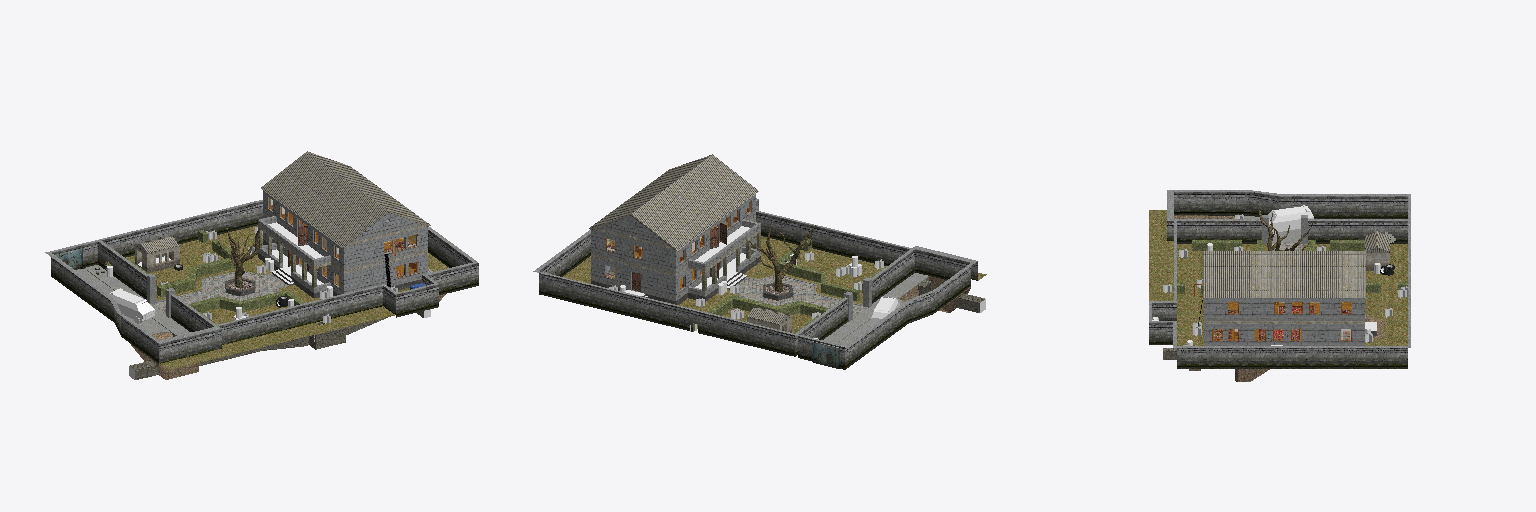
3 views of the same model, side by side, from view 1: azimuth 30°, elevation 25°; view 2: azimuth 150°, elevation 25°; view 3: azimuth 270°, elevation 25° (orthographic).
Visible parts, largest first — view 1: Layer0_001, Group_096; view 2: Layer0_001; view 3: Layer0_001, Group_096.
Part boxes in pixels (x1,y1,x2,y2): Layer0_001: (45, 151, 478, 379); Group_096: (108, 288, 154, 322); Layer0_001: (533, 154, 986, 369); Layer0_001: (1149, 190, 1410, 381); Group_096: (1268, 205, 1313, 231).
Size of the model in its own units: 2030 by 577 by 1357.
72 materials, 54 textured.